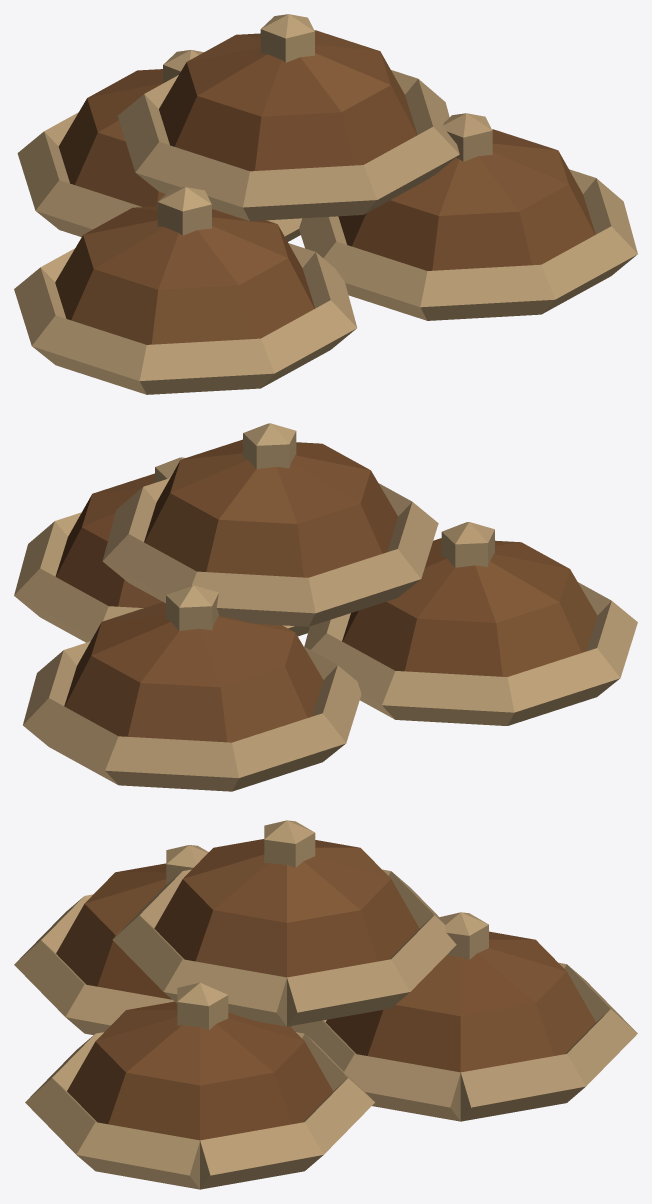
File: storage_worked_hide_cap.glb
3 views of the same model, one above another, from view 1: azimuth 30°, elevation 25°; view 2: azimuth 150°, elevation 25°; view 3: azimuth 270°, elevation 25° (orthographic).
Parts seen in each view (by area): view 1: storage_worked_hide_cap; view 2: storage_worked_hide_cap; view 3: storage_worked_hide_cap.
Part boxes in pixels (x1,y1,x2,y2): storage_worked_hide_cap: (14, 14, 637, 394); storage_worked_hide_cap: (14, 423, 637, 791); storage_worked_hide_cap: (14, 820, 637, 1189).
Bounding box in the file's own units: 1.24 × 0.4927 × 1.15.
